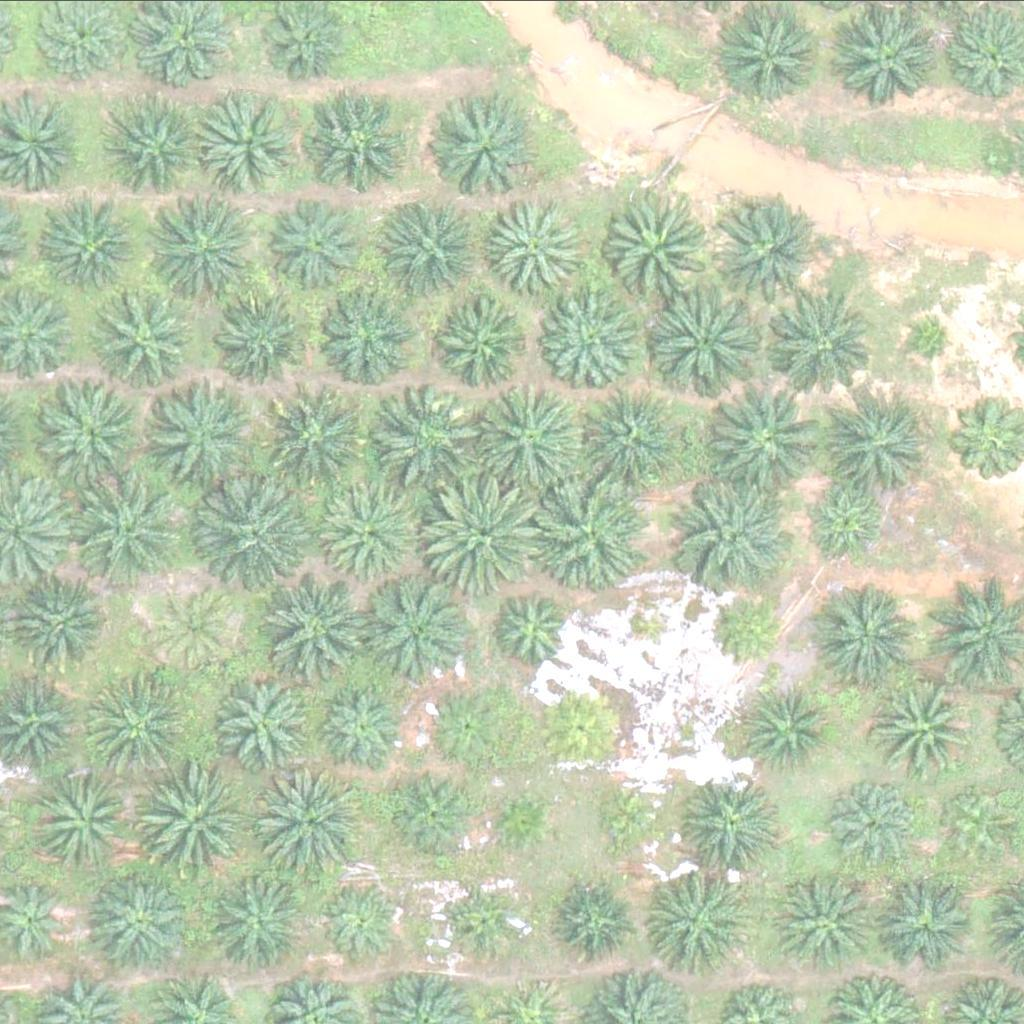Kelapa_Sawit: (74, 476, 188, 589), (650, 288, 763, 401), (767, 291, 880, 404), (531, 473, 644, 586), (679, 476, 792, 589), (367, 383, 480, 496), (200, 476, 313, 589), (253, 766, 366, 879), (141, 765, 254, 878), (709, 385, 823, 497), (468, 381, 582, 493), (420, 479, 534, 591), (602, 193, 715, 305), (710, 196, 823, 308), (819, 380, 932, 492), (145, 189, 258, 301), (83, 668, 196, 780), (266, 570, 379, 682), (359, 575, 472, 687), (783, 869, 884, 969), (874, 871, 975, 971), (681, 778, 782, 878), (874, 679, 975, 779), (813, 582, 914, 682), (841, 4, 942, 104), (439, 101, 540, 201), (488, 194, 589, 294), (433, 296, 534, 396), (541, 289, 642, 389), (197, 98, 298, 198), (109, 98, 210, 198), (41, 194, 142, 294), (321, 480, 422, 580), (215, 675, 316, 775), (34, 771, 135, 871), (94, 873, 195, 973), (207, 871, 308, 971), (645, 872, 745, 972), (390, 196, 490, 296), (579, 382, 679, 482), (307, 92, 407, 192), (266, 196, 366, 296), (311, 284, 411, 384), (91, 292, 191, 392), (207, 287, 307, 387), (40, 381, 140, 481), (157, 381, 257, 481), (270, 389, 370, 489), (10, 579, 110, 679), (535, 683, 624, 771), (805, 477, 893, 565), (422, 683, 510, 771), (153, 582, 241, 670), (320, 878, 408, 966), (318, 682, 407, 769), (549, 877, 637, 964), (826, 779, 914, 866), (746, 685, 834, 772), (490, 588, 578, 675), (392, 773, 480, 860), (707, 593, 783, 668), (484, 785, 560, 860), (592, 781, 668, 856), (455, 879, 530, 954), (940, 784, 1015, 859), (913, 313, 963, 363)
